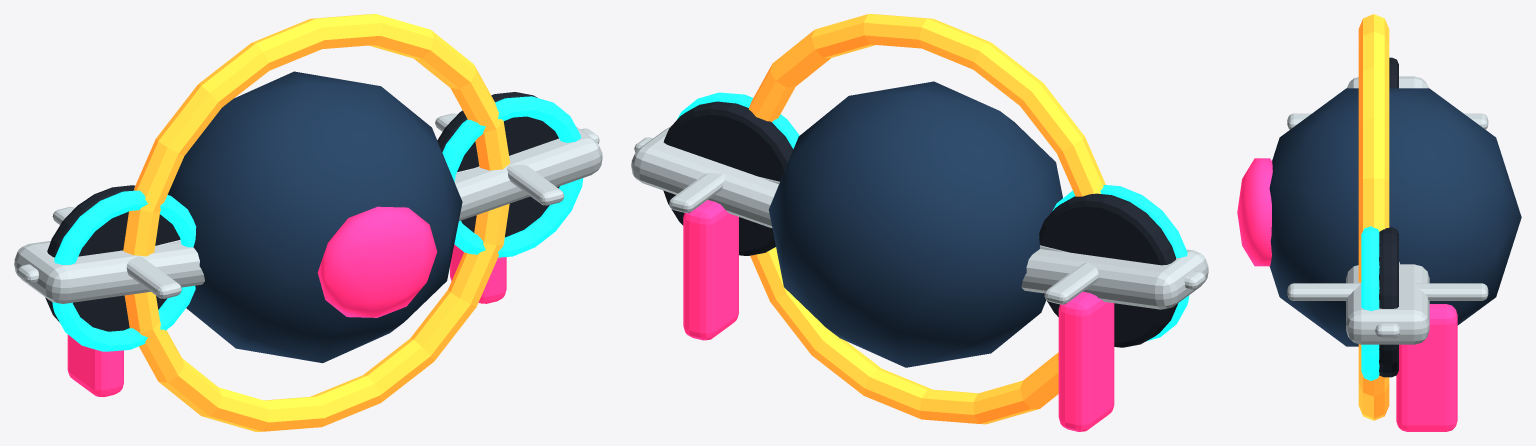
Rendered from drone-premium.glb.
3 renders of one model, left to right at view 1: azimuth 30°, elevation 25°; view 2: azimuth 150°, elevation 25°; view 3: azimuth 270°, elevation 25°, orthographic. The views are drawn at different scales.
Visible parts, largest first — view 1: DroneCore, DroneWarningRing, DroneLens, DroneWing_L, DroneRotorLight_L, DroneRotorLight_R, DroneWing_R, DroneRotor_L, DroneRotor_R, DroneFin_L, DroneBlade_R_B, DroneBlade_L_B (+1 smaller); view 2: DroneCore, DroneWarningRing, DroneRotor_L, DroneRotor_R, DroneFin_L, DroneFin_R, DroneWing_L, DroneWing_R, DroneRotorLight_L, DroneBlade_R_B, DroneBlade_L_B, DroneRotorLight_R; view 3: DroneCore, DroneWarningRing, DroneFin_R, DroneWing_R, DroneLens, DroneBlade_R_B, DroneRotor_R, DroneRotorLight_R, DroneBlade_L_B, DroneWing_L, DroneBlade_R_A, DroneRotor_L.
Part boxes in pixels (x1=…): DroneCore: x1=167, y1=71, x2=462, y2=363; DroneWarningRing: x1=123, y1=14, x2=510, y2=431; DroneLens: x1=317, y1=206, x2=437, y2=317; DroneWing_L: x1=14, y1=241, x2=204, y2=303; DroneRotorLight_L: x1=52, y1=190, x2=196, y2=351; DroneRotorLight_R: x1=442, y1=96, x2=583, y2=257; DroneWing_R: x1=454, y1=126, x2=602, y2=221; DroneRotor_L: x1=45, y1=185, x2=180, y2=331; DroneRotor_R: x1=437, y1=92, x2=559, y2=237; DroneFin_L: x1=67, y1=334, x2=123, y2=396; DroneBlade_R_B: x1=435, y1=113, x2=564, y2=205; DroneBlade_L_B: x1=52, y1=207, x2=181, y2=298; DroneCore: x1=768, y1=81, x2=1062, y2=367; DroneWarningRing: x1=748, y1=14, x2=1105, y2=424; DroneRotor_L: x1=1039, y1=193, x2=1177, y2=347; DroneRotor_R: x1=663, y1=101, x2=793, y2=255; DroneFin_L: x1=1058, y1=291, x2=1114, y2=431; DroneFin_R: x1=683, y1=200, x2=738, y2=340; DroneWing_L: x1=1021, y1=249, x2=1208, y2=309; DroneWing_R: x1=631, y1=126, x2=778, y2=228; DroneRotorLight_L: x1=1052, y1=185, x2=1189, y2=341; DroneBlade_R_B: x1=669, y1=128, x2=794, y2=212; DroneBlade_L_B: x1=1044, y1=262, x2=1098, y2=304; DroneRotorLight_R: x1=677, y1=92, x2=799, y2=247; DroneCore: x1=1269, y1=88, x2=1521, y2=346; DroneWarningRing: x1=1358, y1=14, x2=1389, y2=420; DroneFin_R: x1=1396, y1=304, x2=1457, y2=431; DroneWing_R: x1=1346, y1=264, x2=1429, y2=344; DroneLens: x1=1237, y1=158, x2=1272, y2=266; DroneBlade_R_B: x1=1287, y1=283, x2=1488, y2=300; DroneRotor_R: x1=1379, y1=227, x2=1398, y2=377; DroneRotorLight_R: x1=1361, y1=226, x2=1379, y2=380; DroneBlade_L_B: x1=1287, y1=113, x2=1488, y2=129; DroneWing_L: x1=1347, y1=76, x2=1428, y2=88; DroneBlade_R_A: x1=1375, y1=262, x2=1400, y2=338; DroneRotor_L: x1=1389, y1=57, x2=1398, y2=88.
Size of the model in its own units: 2.16 by 1.47 by 1.02.
